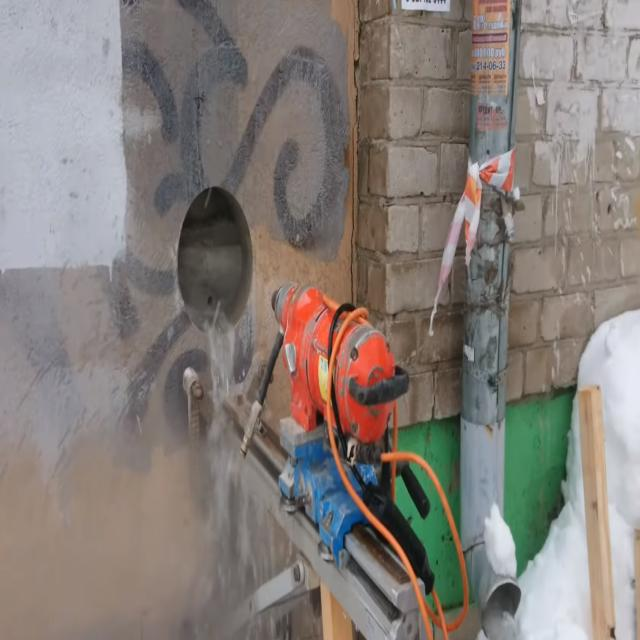leak: (205, 326, 295, 611)
